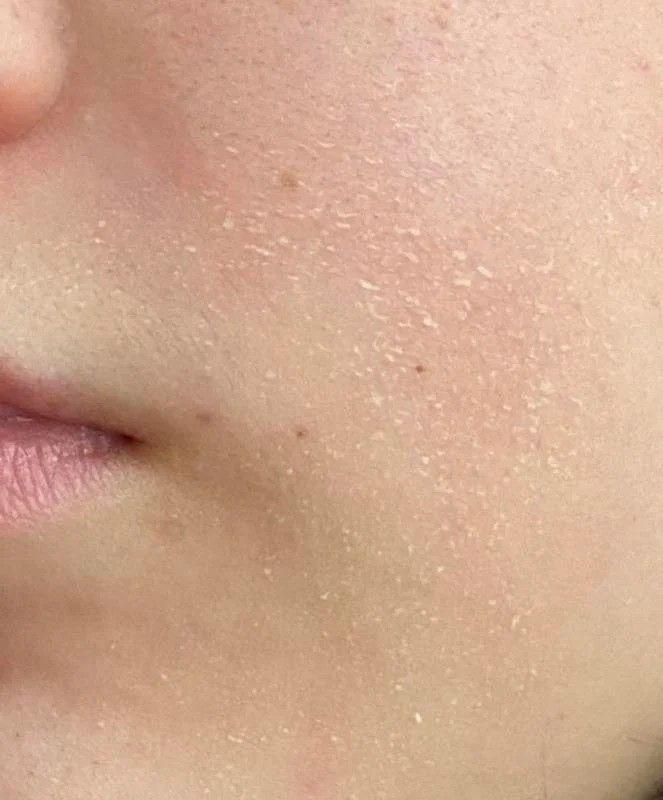Dry-Skin: (286, 202, 388, 314), (448, 350, 552, 452), (170, 124, 278, 222), (278, 426, 364, 512), (432, 222, 492, 310)
